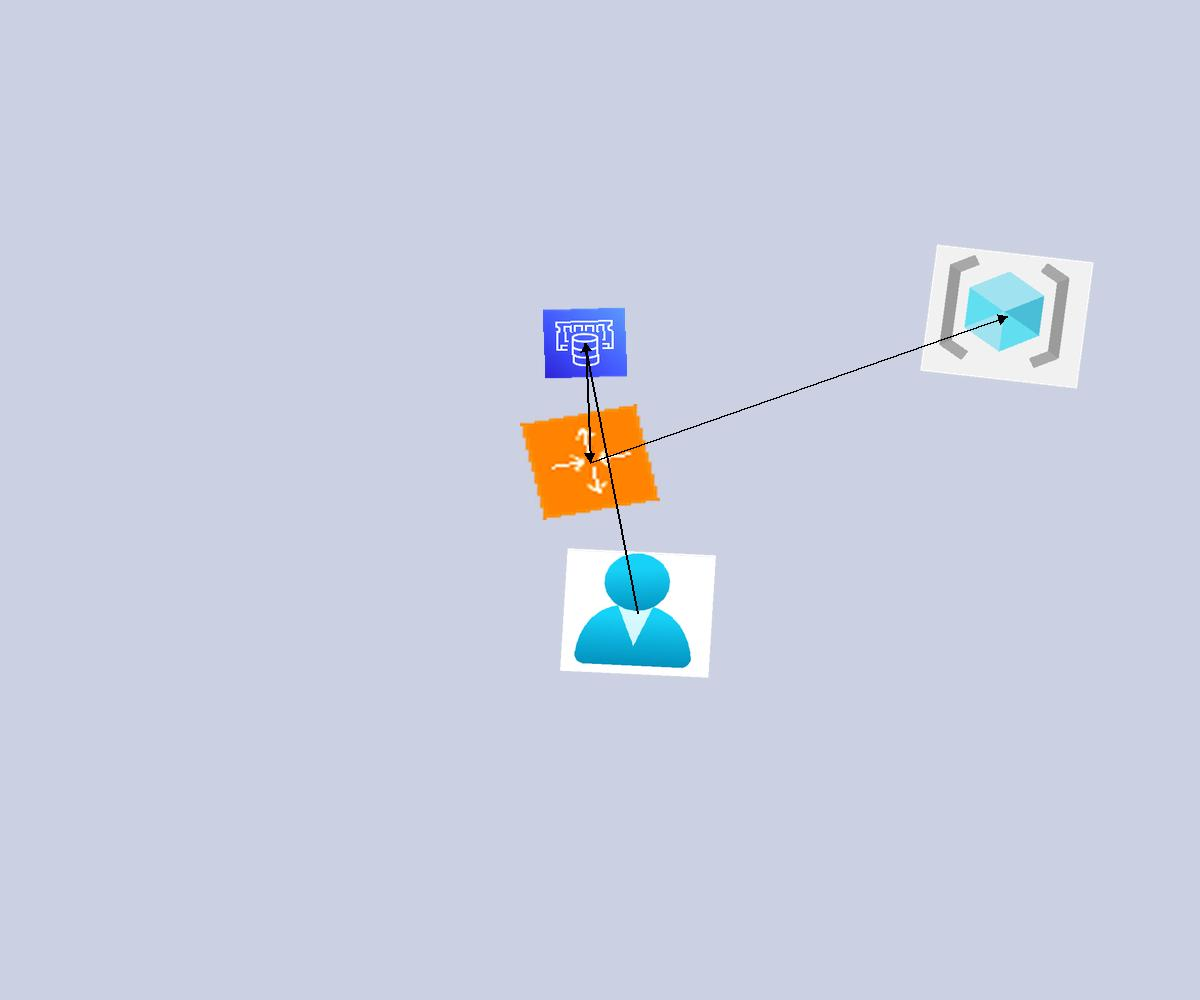AWS-ElastiCache: (542, 307, 628, 379)
AWS-Scaling-group: (520, 404, 660, 520)
Azure_resource_group: (920, 244, 1094, 389)
Azure_users: (560, 548, 716, 678)
